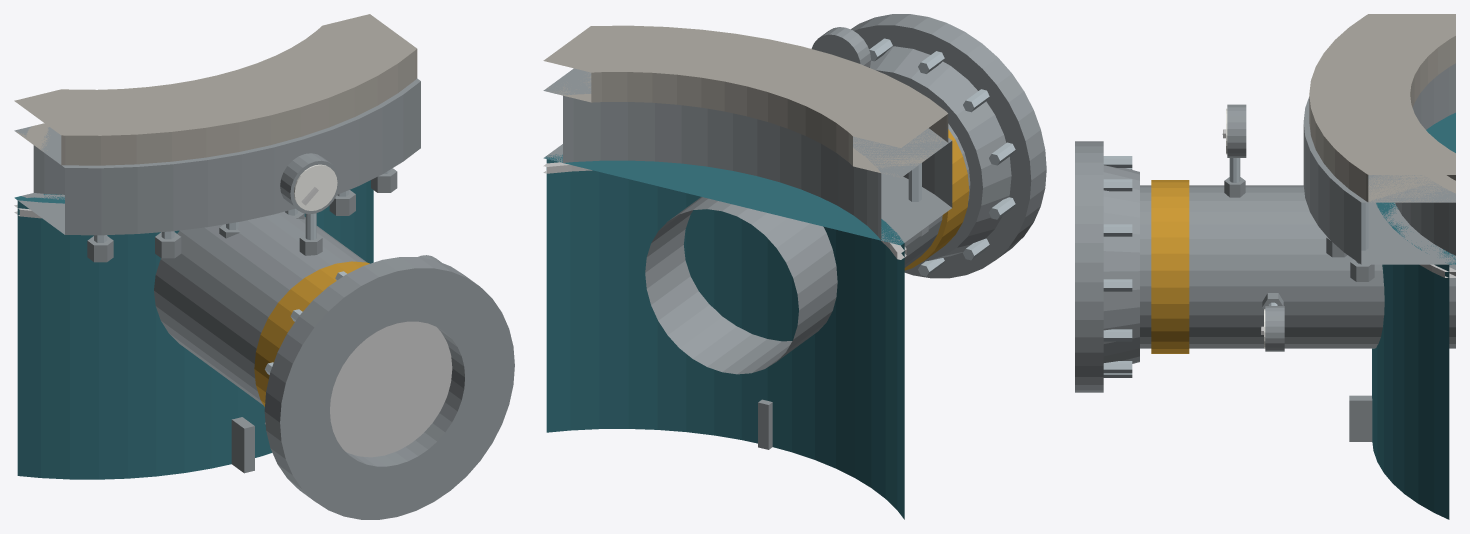
File: cell_16.obj
3 views of the same model, side by side, from view 1: azimuth 30°, elevation 25°; view 2: azimuth 150°, elevation 25°; view 3: azimuth 270°, elevation 25° (orthographic). The views are drawn at different scales.
Bounding box in the file's own units: 1 × 1 × 1.
